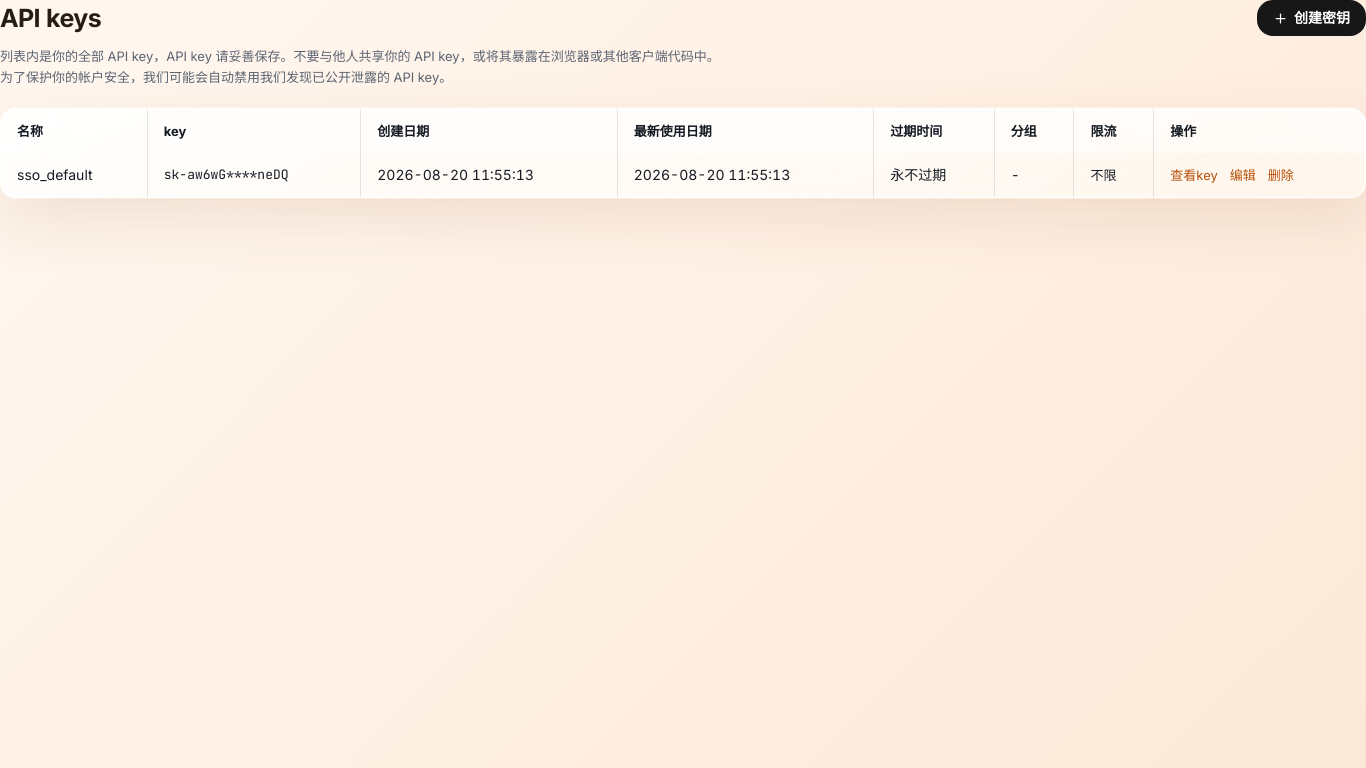
Test: APIKeys（API keys） › reveals the plaintext when 查看key is clicked
This screenshot has width=1366, height=768.
Click the button "查看key" at (1194, 175), box [1170,165,1218,185]
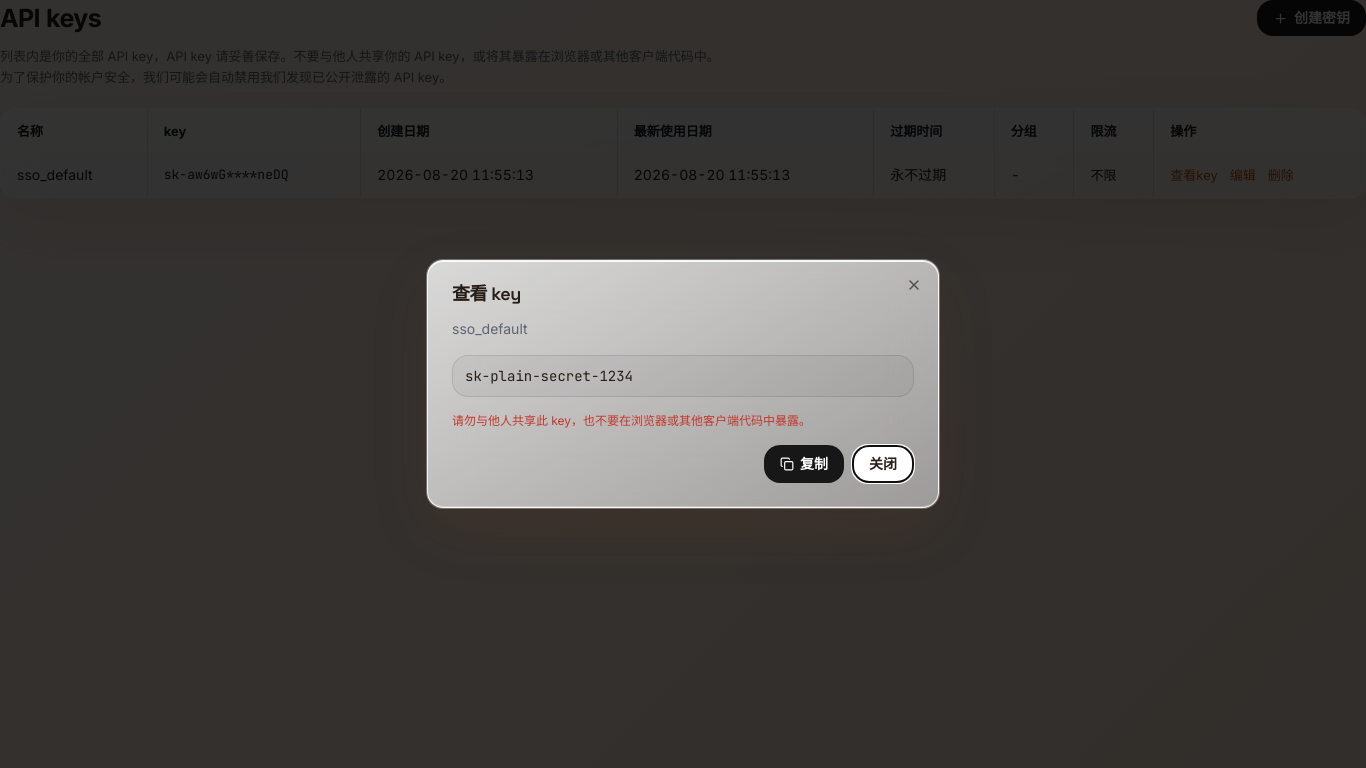
Expected: the text "sk-plain-secret-1234" is shown, [452,355,914,397]
